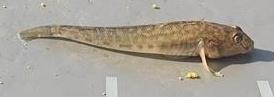Goby: (17, 20, 255, 78)
